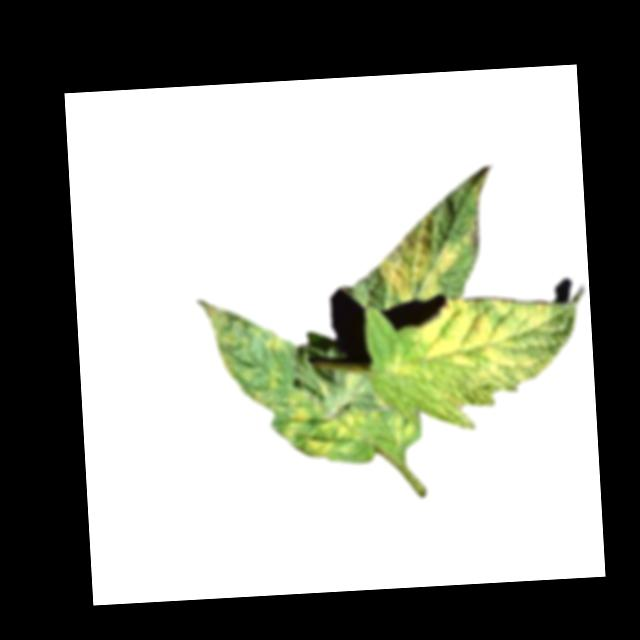Leaf_Mold: (419, 291, 561, 396), (376, 209, 460, 304), (323, 401, 380, 439), (383, 346, 421, 384), (281, 390, 308, 438), (304, 436, 336, 460), (265, 331, 288, 350)
